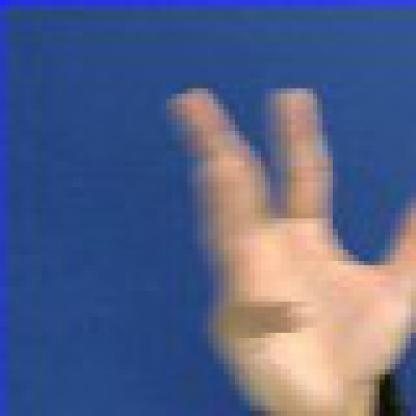nine: (114, 36, 411, 411)
